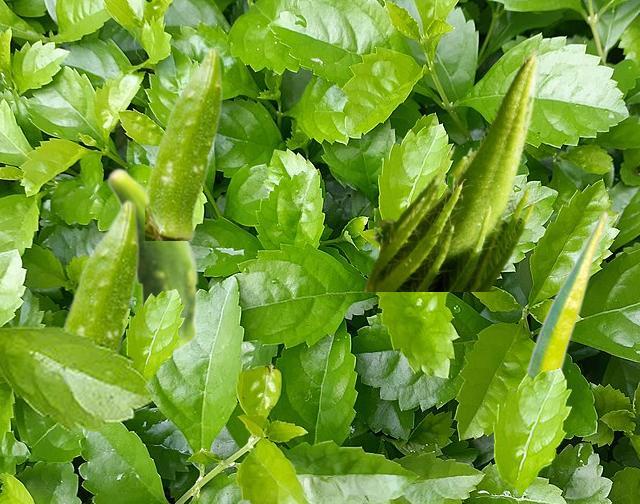okra: (361, 46, 544, 290), (106, 167, 199, 352), (145, 45, 222, 239), (524, 210, 607, 377), (60, 198, 139, 352)
